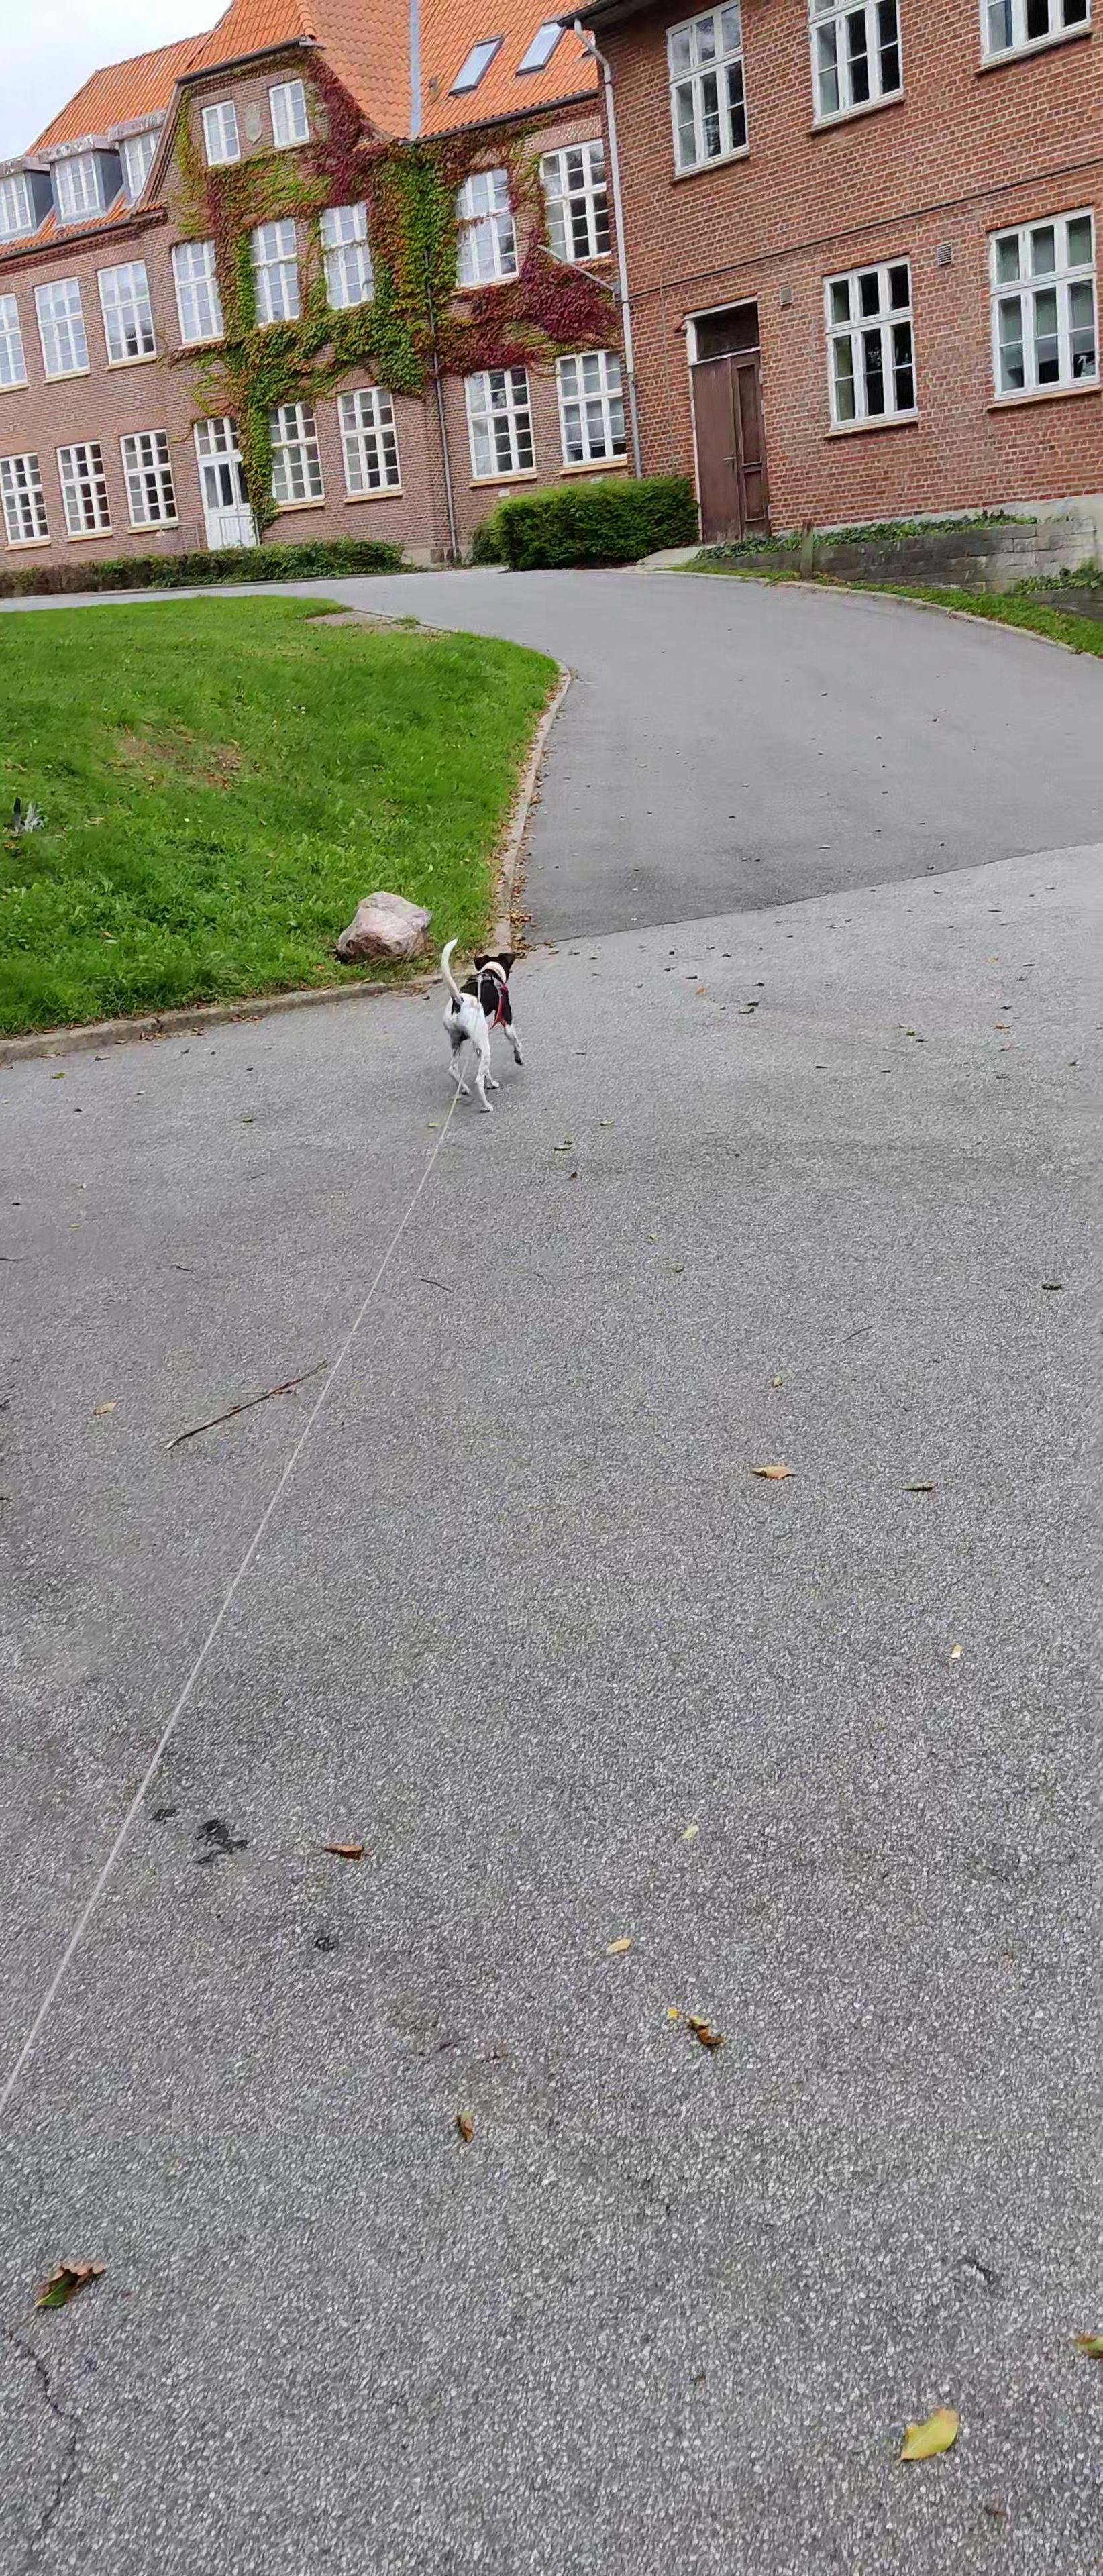Dog: (424, 927, 544, 1130)
